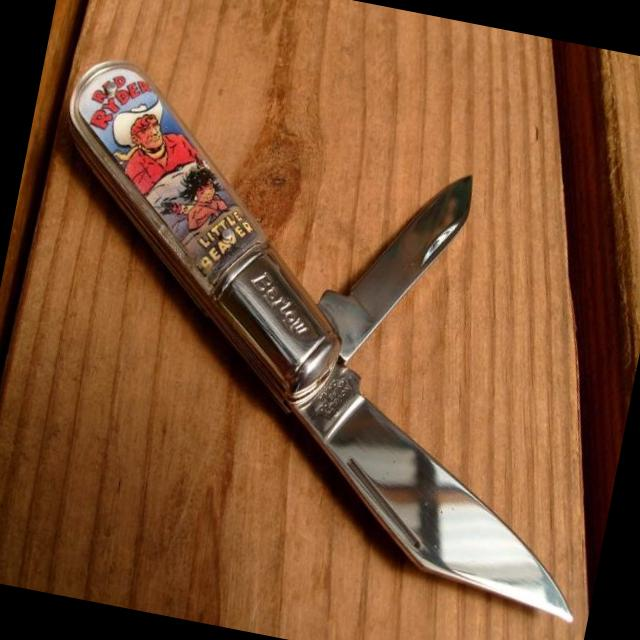Knife: (69, 61, 572, 621)
